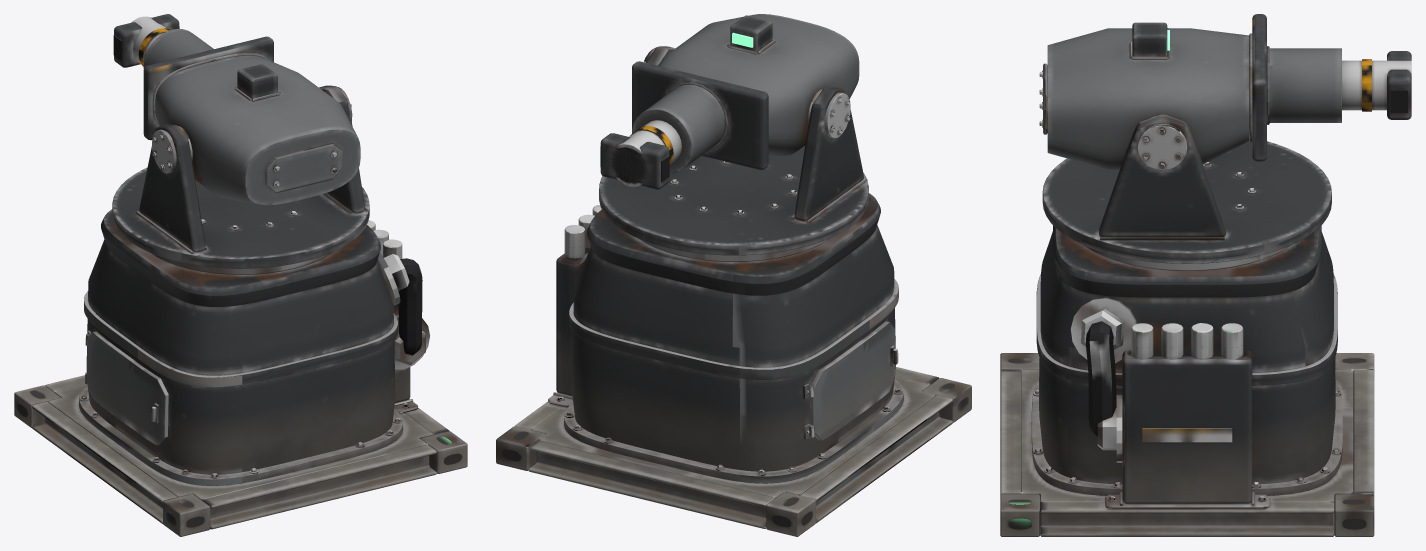
Rendered from SM_TurretCannon.glb.
3 renders of one model, left to right at view 1: azimuth 30°, elevation 25°; view 2: azimuth 150°, elevation 25°; view 3: azimuth 270°, elevation 25°, orthographic. The views are drawn at different scales.
Visible parts, largest first — view 1: SM_TurretCannon, SM_TurretCannon_Cradle, SM_TurretCannon_Head, SM_TurretCannon_Barrel; view 2: SM_TurretCannon, SM_TurretCannon_Cradle, SM_TurretCannon_Head, SM_TurretCannon_Barrel; view 3: SM_TurretCannon, SM_TurretCannon_Cradle, SM_TurretCannon_Head, SM_TurretCannon_Barrel.
Boxes of the visible parts, x1,y1,x2,y2 form: SM_TurretCannon: (14,209,467,536); SM_TurretCannon_Cradle: (143,29,360,205); SM_TurretCannon_Head: (112,85,369,268); SM_TurretCannon_Barrel: (113,14,179,67); SM_TurretCannon: (496,193,971,536); SM_TurretCannon_Cradle: (632,14,859,173); SM_TurretCannon_Head: (599,46,868,255); SM_TurretCannon_Barrel: (600,120,681,189); SM_TurretCannon: (1000,225,1374,536); SM_TurretCannon_Cradle: (1039,14,1341,169); SM_TurretCannon_Head: (1042,28,1331,263); SM_TurretCannon_Barrel: (1342,51,1411,119).
Size of the model in its own units: 1.57 by 1.9 by 1.65.
7 materials, 6 textured.
